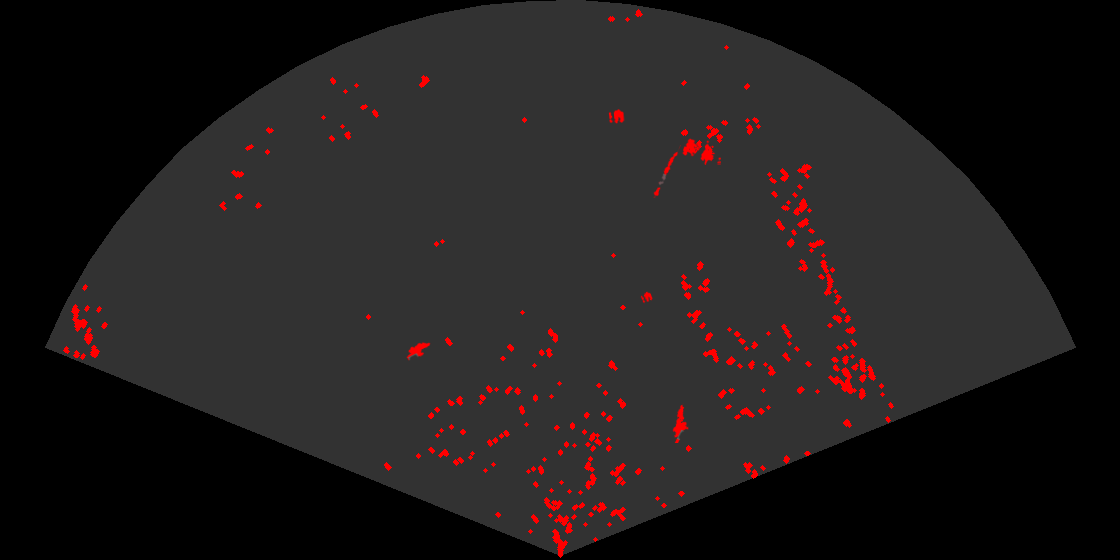AUV: (405, 341, 432, 362)
ball: (607, 108, 625, 125), (639, 290, 654, 305)
cage: (681, 137, 721, 165)
chain: (652, 145, 681, 198)
frogman: (671, 403, 690, 443)
